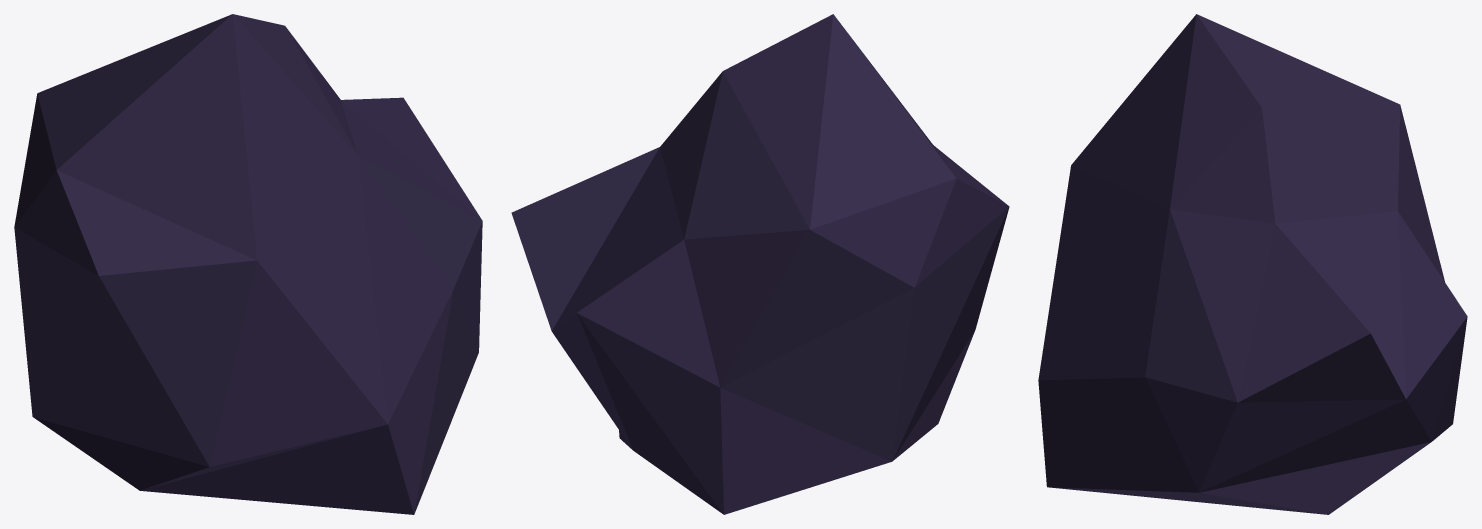
Rendered from Cave_stone_2.glb.
3 renders of one model, left to right at view 1: azimuth 30°, elevation 25°; view 2: azimuth 150°, elevation 25°; view 3: azimuth 270°, elevation 25°, orthographic. The views are drawn at different scales.
Parts seen in each view (by area): view 1: Cave_stone_02; view 2: Cave_stone_02; view 3: Cave_stone_02.
Boxes of the visible parts, left/top/right/bottom form: Cave_stone_02: left=14, top=14, right=482, bottom=514; Cave_stone_02: left=511, top=14, right=1009, bottom=514; Cave_stone_02: left=1038, top=14, right=1467, bottom=514.
Size of the model in its own units: 0.5479 by 0.5569 by 0.5058.
